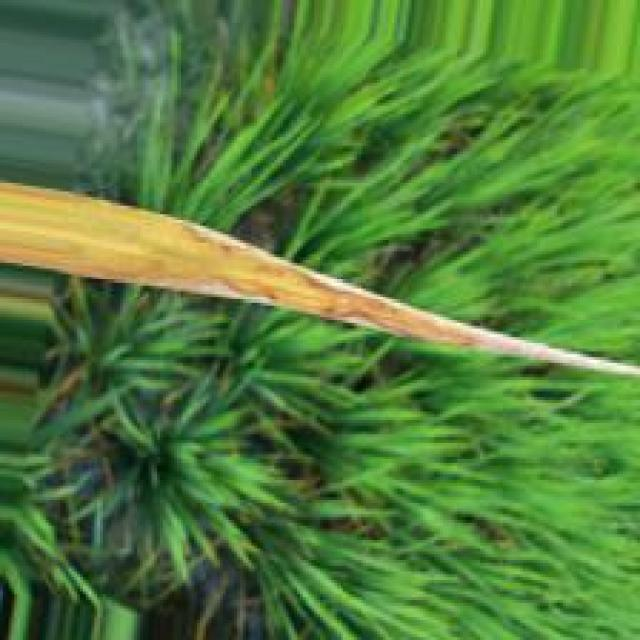Bacterial_Leaf_Blight: (5, 181, 638, 374)
